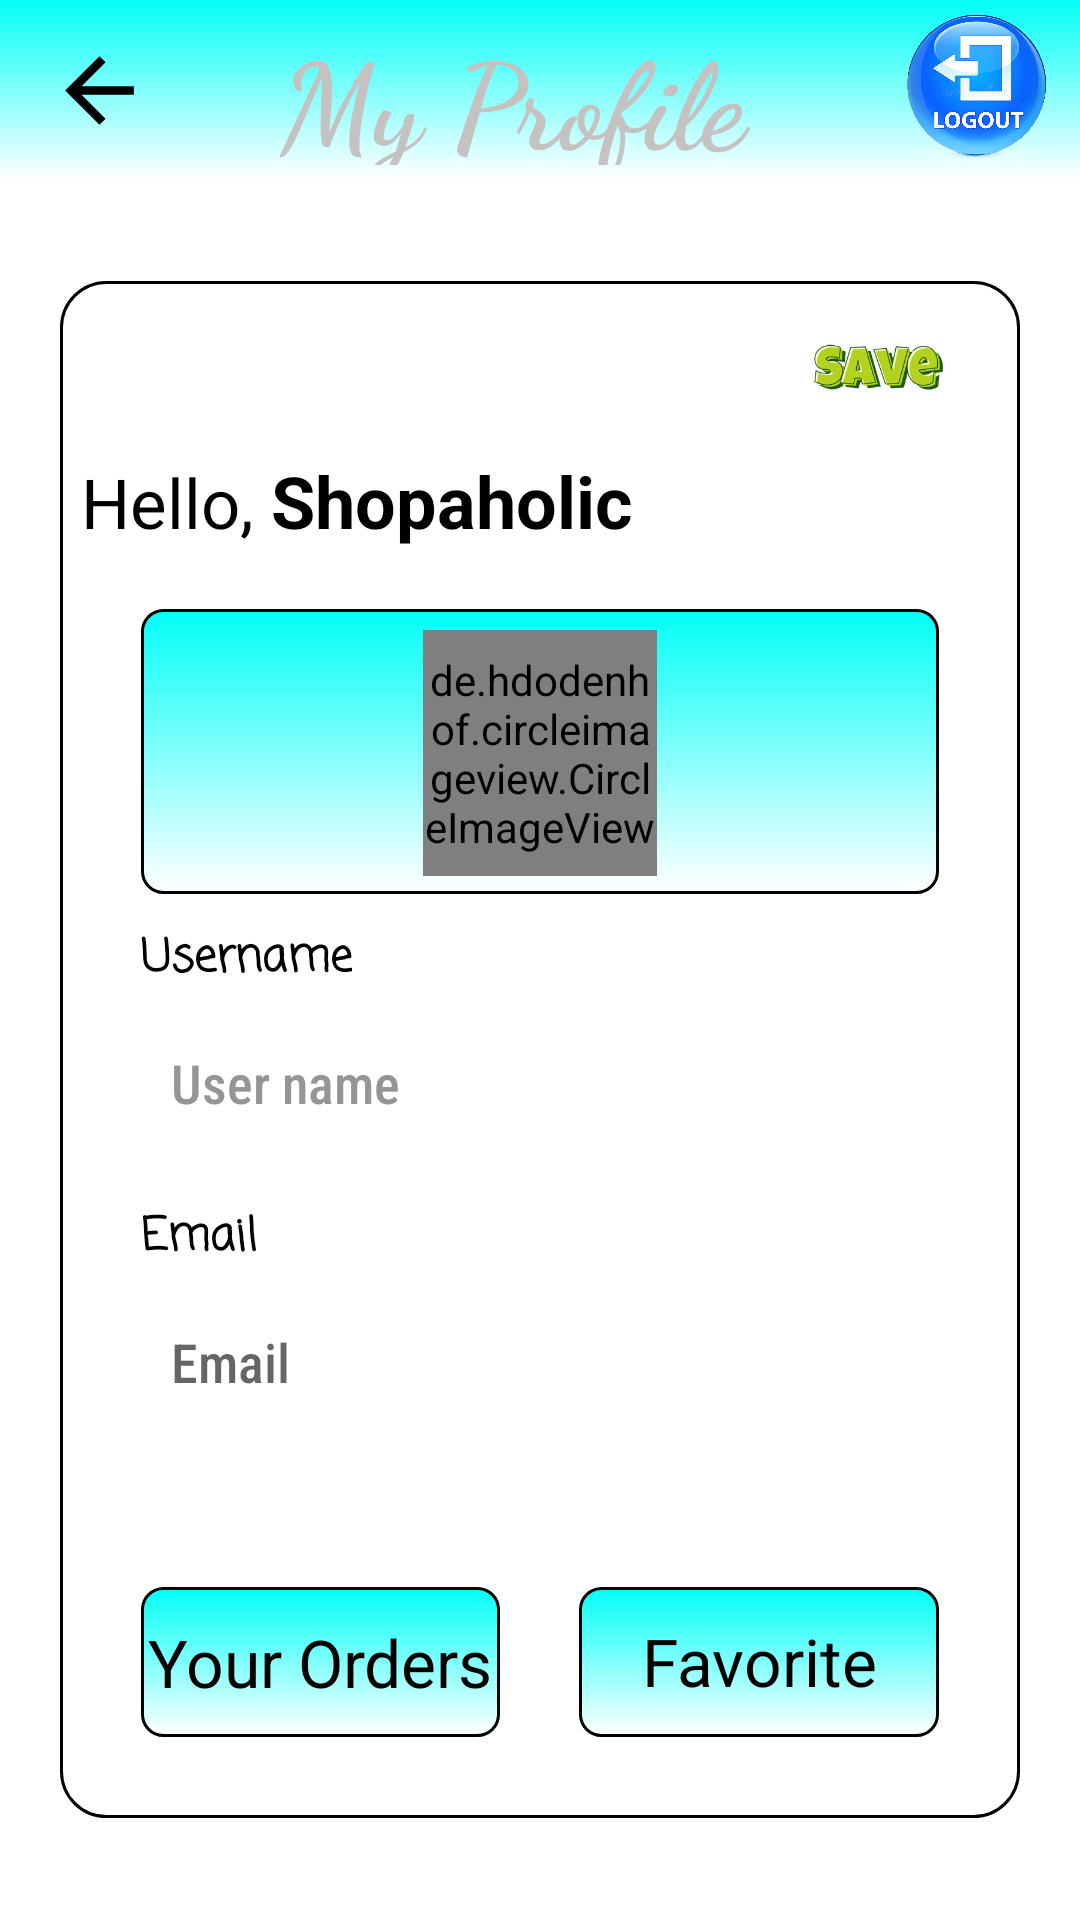

Screen size 1080×1920. Icon name, then its center in pixels as (x,y):
back: (99,90)
